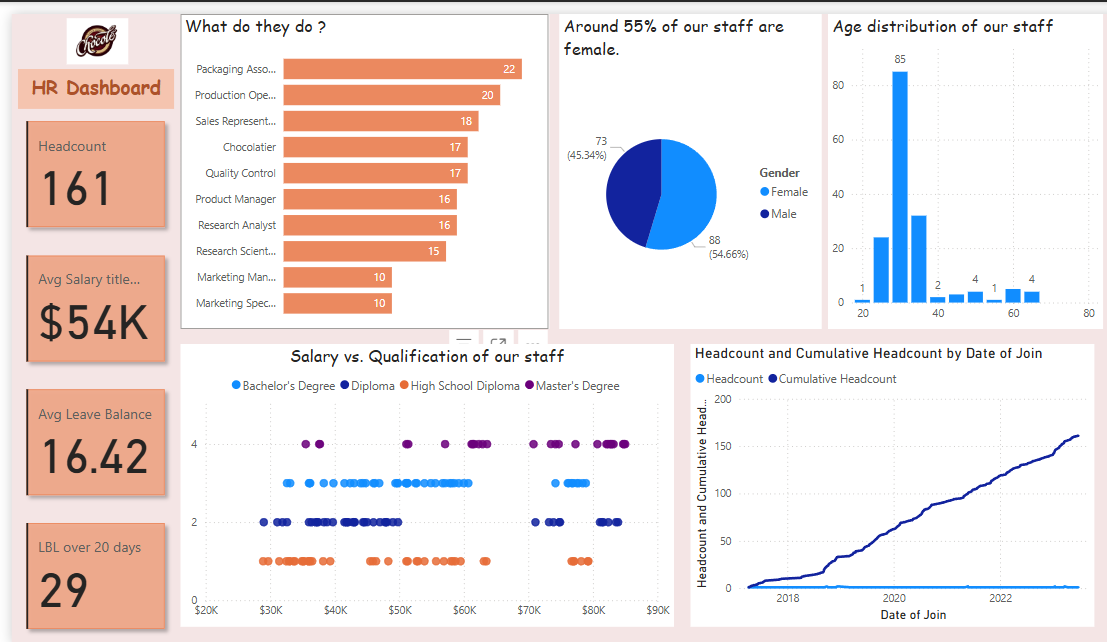

The page's visual inventory and layout, read from the dashboard file:
{"tool":"powerbi","page":{"name":"Dashboard","canvas":[1280,720],"ordinal":9},"visuals":[{"type":"cardVisual","fields":{"Data":["data.Headcount","data.Avg Salary title based","data.Avg Leave Balance","data.LBL over 20 days"]},"box":[0,105.7,192.9,614.3],"z":0},{"type":"clusteredBarChart","title":"What do they do ?","fields":{"Category":["data.Job Title"],"Y":["data.Headcount"]},"box":[192.9,0,421.4,360],"z":1000},{"type":"pieChart","title":"Around 55% of our staff are female.","fields":{"Category":["data.Gender"],"Y":["data.Headcount"]},"box":[625.7,0,300,360],"z":2000},{"type":"columnChart","title":"Age distribution of our staff","fields":{"Category":["data.Age (bins)"],"Y":["data.Headcount"]},"box":[932.9,0,314.3,360],"z":3000},{"type":"scatterChart","title":"Salary vs. Qualification of our staff","fields":{"X":["data.Salary"],"Y":["Education Qualification.Qualification ID "],"Series":["Education Qualification.Qualification"]},"box":[192.9,377.1,564.3,322.9],"z":3001},{"type":"lineChart","fields":{"Y":["data.Headcount","data.Cumulative Headcount"],"Category":["data.Date of Join"]},"box":[775.7,377.1,461.4,322.9],"z":3002},{"type":"image","box":[30,0,135.7,62.9],"z":3003},{"type":"textbox","box":[7.1,62.9,178.6,45.7],"z":3004}]}

Visuals, with their boxes on the page's 1280x720 design canvas (x1, y1, x2, y2). These are canvas units, not pixel positions in the 1107x642 screenshot, which may show the page scaled, cropped or inside an application window:
cardVisual - data.Headcount x data.Avg Salary title based: l=0, t=106, r=193, b=720
"What do they do ?" clusteredBarChart: l=193, t=0, r=614, b=360
"Around 55% of our staff are female." pieChart: l=626, t=0, r=926, b=360
"Age distribution of our staff" columnChart: l=933, t=0, r=1247, b=360
"Salary vs. Qualification of our staff" scatterChart: l=193, t=377, r=757, b=700
lineChart - data.Headcount x data.Cumulative Headcount: l=776, t=377, r=1237, b=700
image: l=30, t=0, r=166, b=63
textbox: l=7, t=63, r=186, b=109
